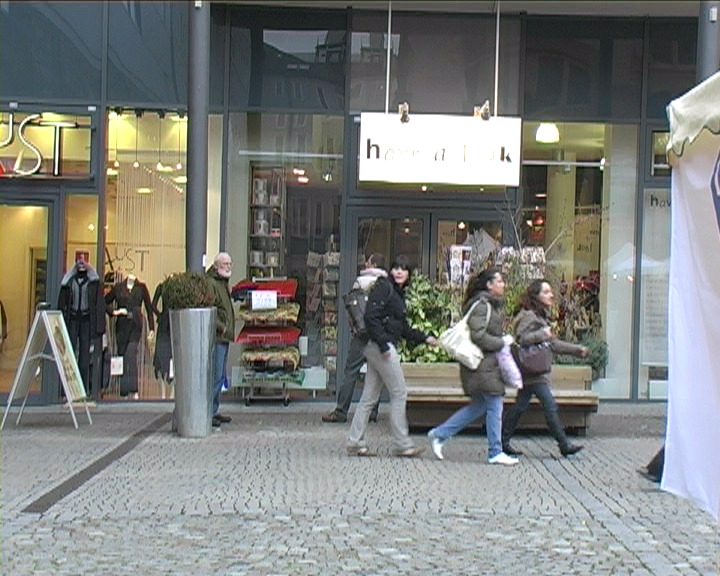deflection: (360, 258, 415, 332)
